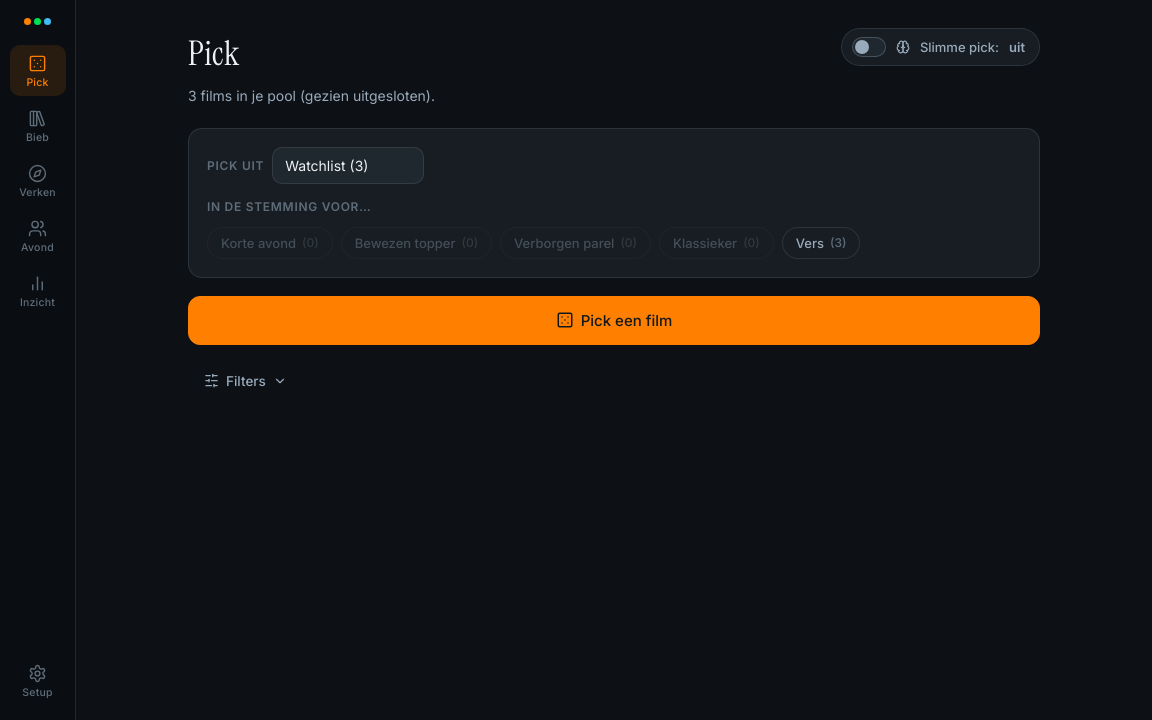
V2 smoke › pick-bron: kiezen uit een eigen lijst verandert de pool
The image size is (1152, 720).
Select "Spooky Season (2)" in the dropdown named "Pick uit". click: (348, 166)
box: 272,147 -> 424,184
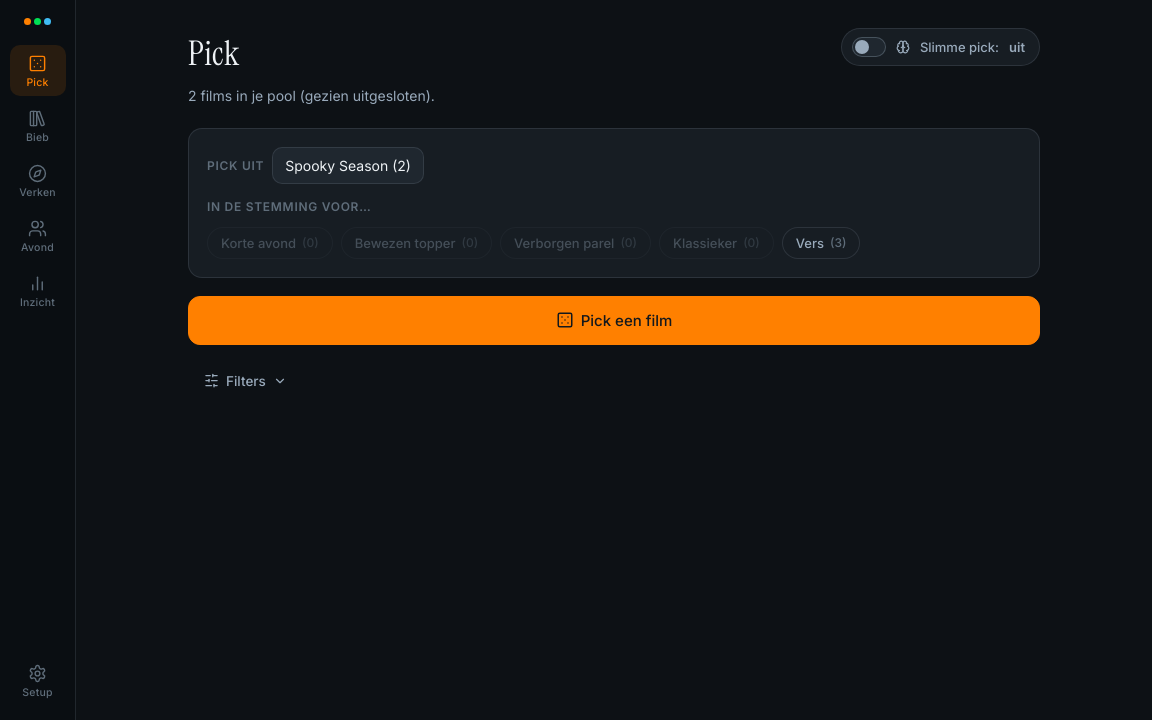
Now the text "2 films in je pool" is shown, box 188,87 -> 296,104
